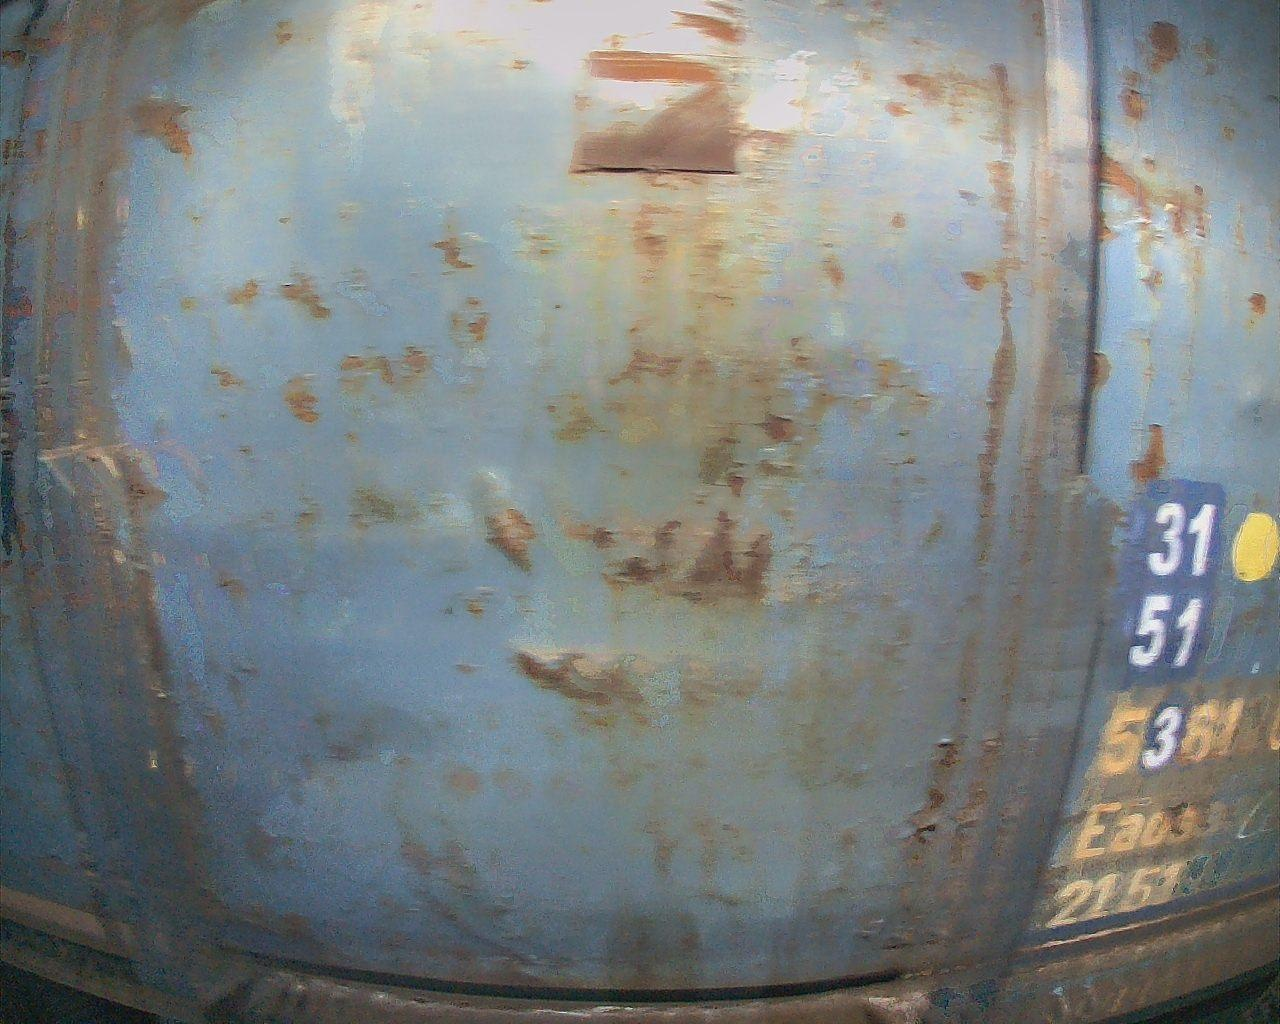UIC: (1044, 491, 1280, 937)
